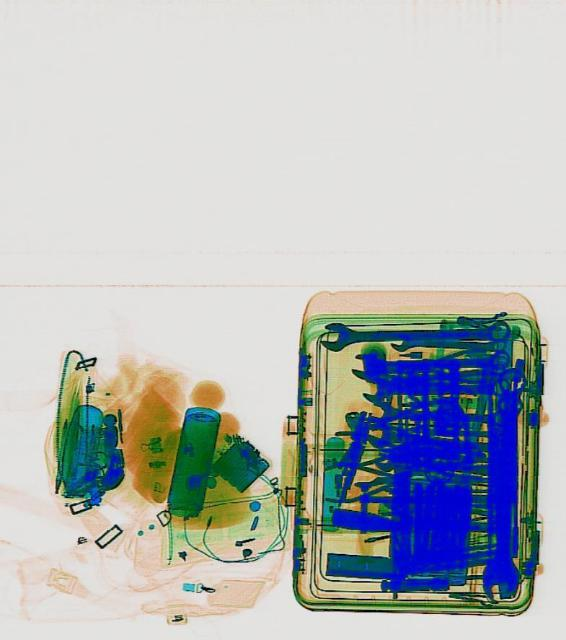Pliers: (320, 460, 406, 506), (330, 429, 411, 468)
Wrench: (478, 393, 524, 599), (316, 318, 509, 349), (349, 347, 508, 381)
